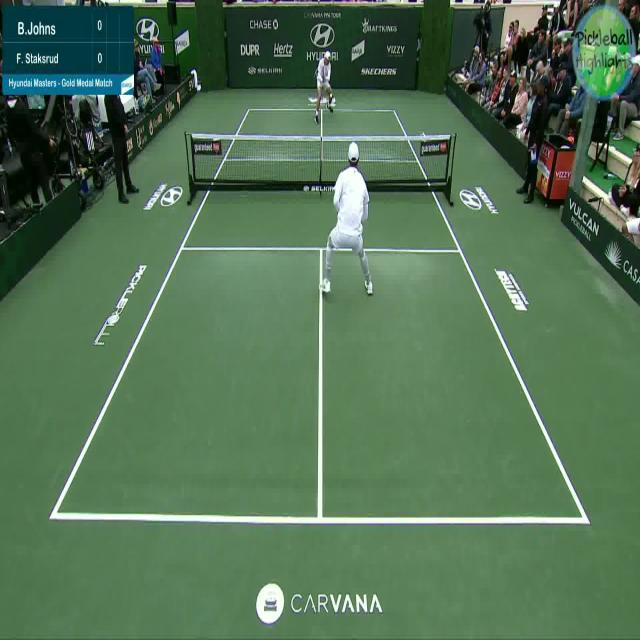Court: (53, 107, 589, 520)
ball: (327, 92, 336, 101)
